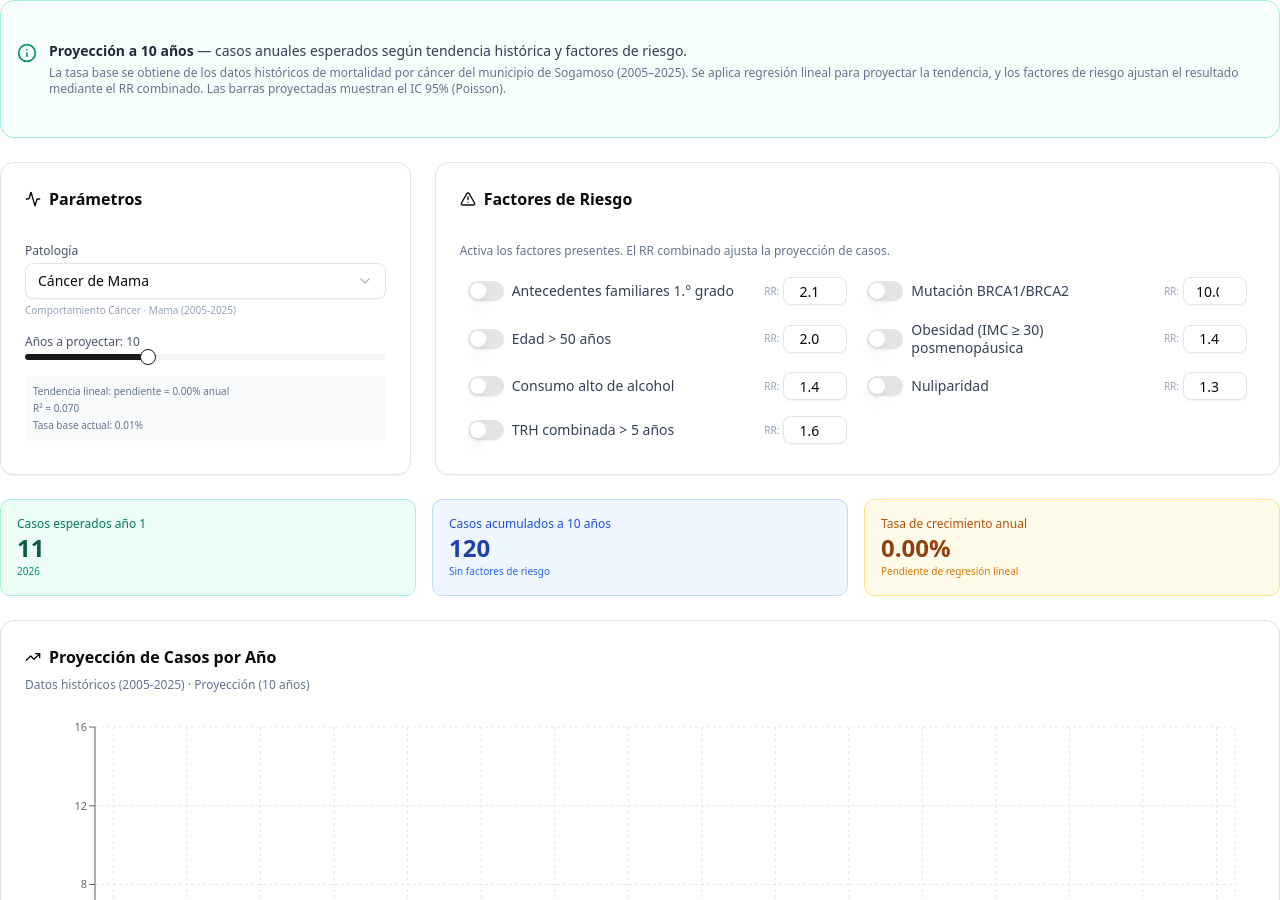
Test case: PoissonPanel — patología Personalizada › muestra el input de tasa y usa la nota de 'sin datos históricos'
Click the dropdown. click: [94, 280]
box: [25,263,386,299]
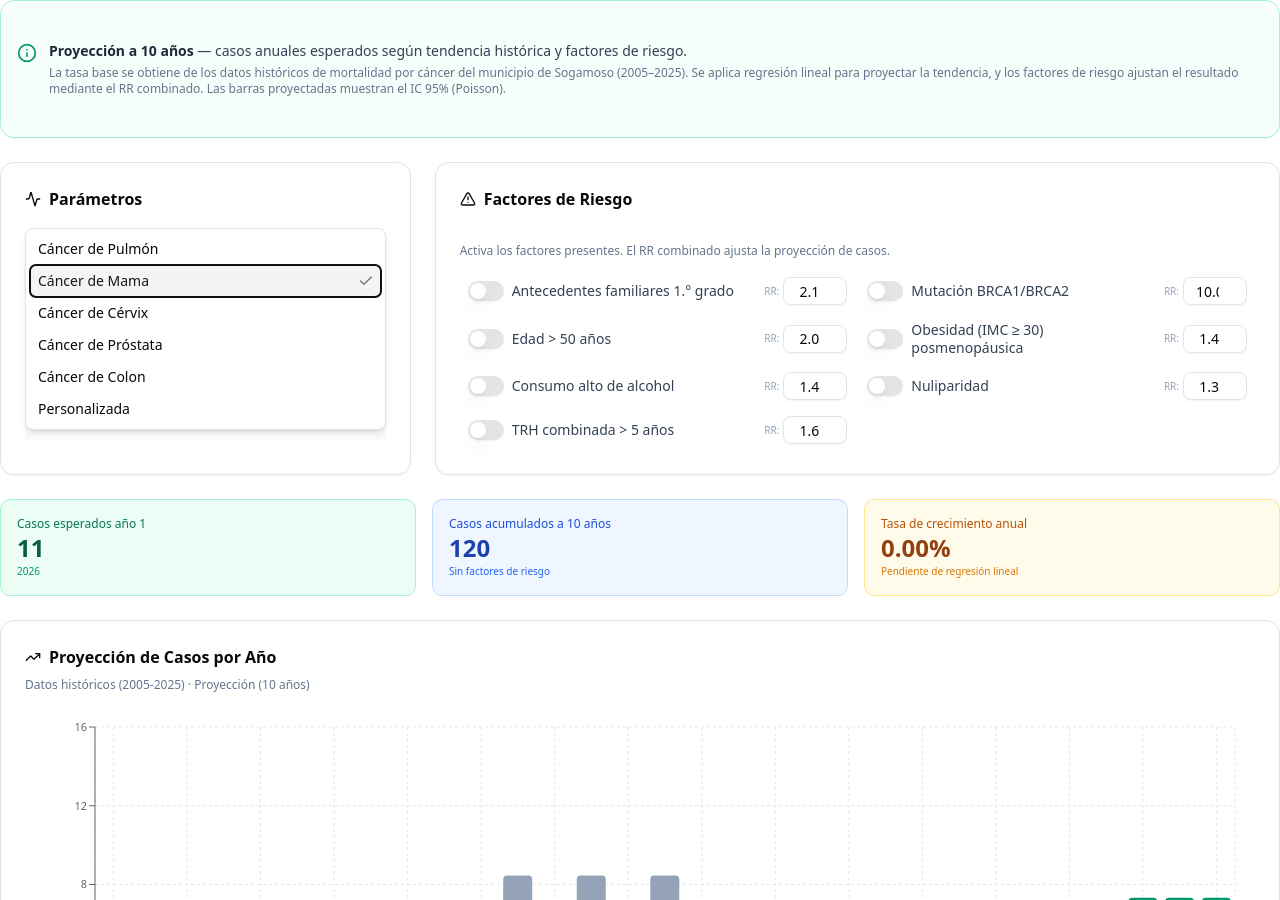
Click the option "Personalizada". click: [84, 408]
box: [38,399,130,418]
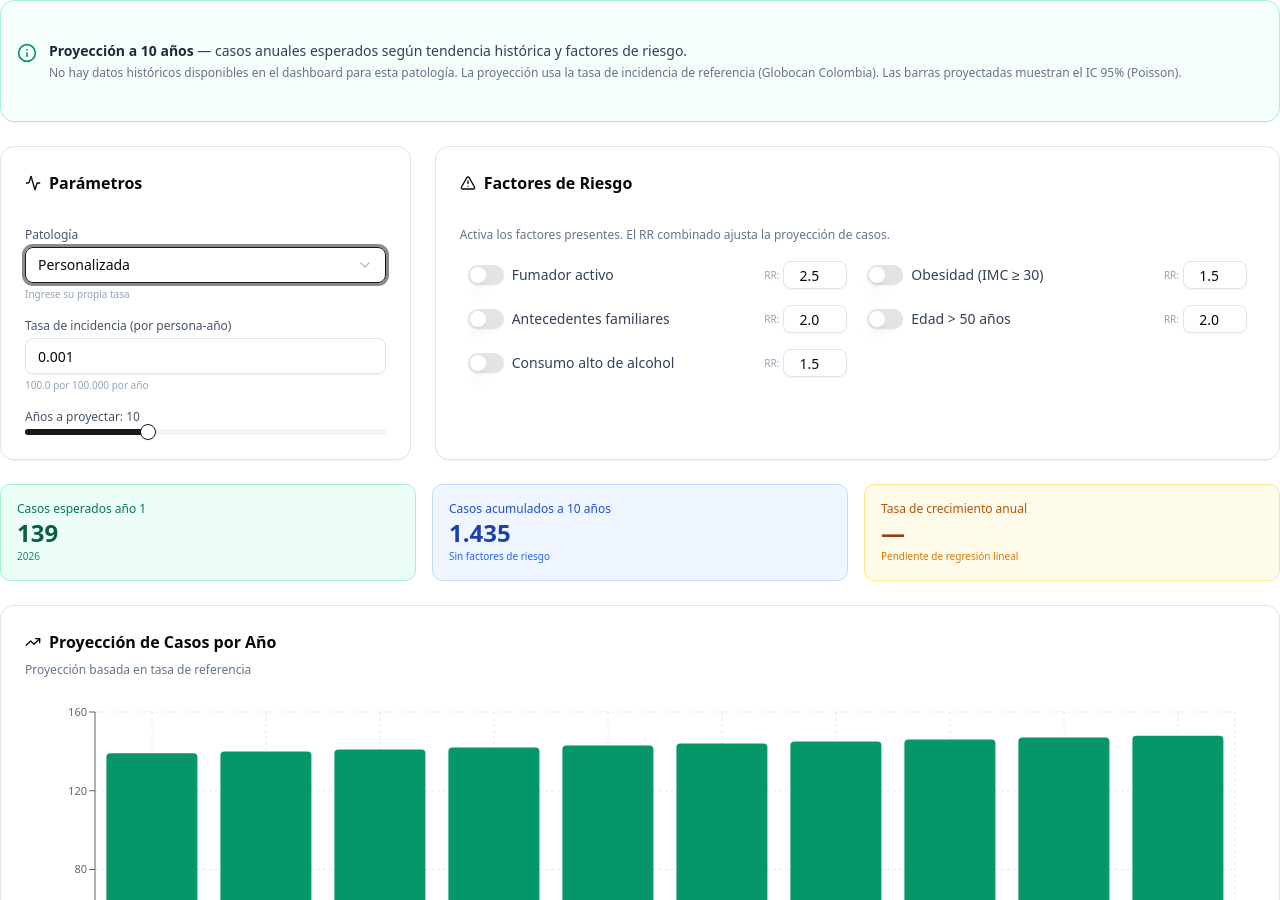
Result: the text "Ingrese su propia tasa" is shown at [25,287,130,301]
Result: the text "No hay datos históricos disponibles en el dashboard para esta patología" is shown at [49,64,879,81]
Result: the text "R² =" is gone
